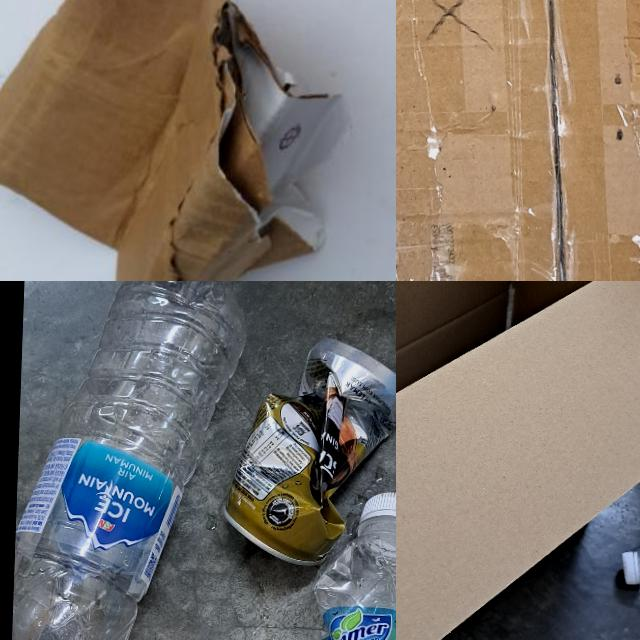garrafa plástica: (9, 281, 241, 640), (297, 535, 396, 640)
lata: (223, 327, 396, 579)
papelão: (0, 0, 334, 281), (396, 281, 640, 640), (396, 0, 640, 281)
tampa plástica: (357, 489, 396, 555), (619, 551, 640, 584)
